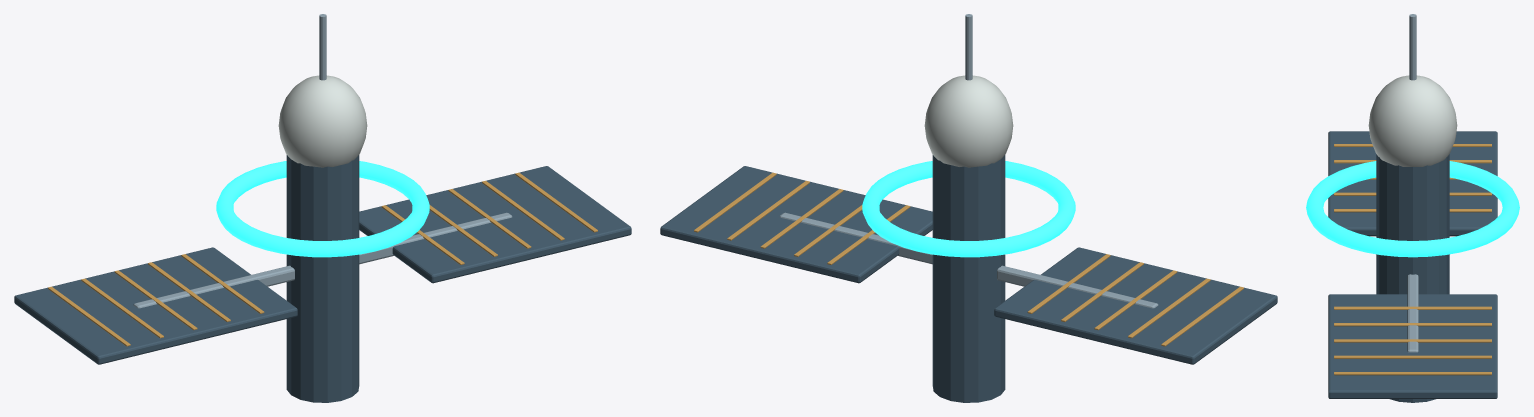
Rendered from navigation_beacon.glb.
3 views of the same model, side by side, from view 1: azimuth 30°, elevation 25°; view 2: azimuth 150°, elevation 25°; view 3: azimuth 270°, elevation 25° (orthographic).
Visible parts, largest first — view 1: Geometry_navigation_beacon; view 2: Geometry_navigation_beacon; view 3: Geometry_navigation_beacon.
Boxes of the visible parts, x1,y1,x2,y2 form: Geometry_navigation_beacon: (14,14,631,402); Geometry_navigation_beacon: (660,14,1277,402); Geometry_navigation_beacon: (1306,14,1519,402).
Size of the model in its own units: 3.2 by 2.13 by 1.11.
